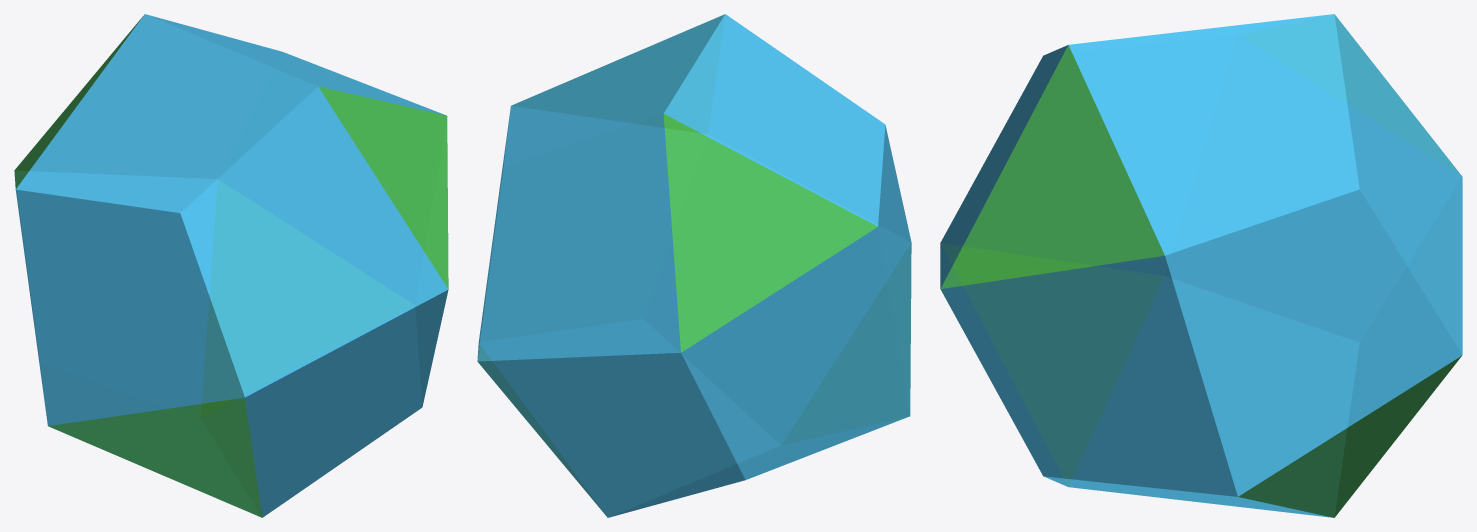
File: PropellorTetrahedron.obj
The picture shows the model from 3 angles, left to right: view 1: azimuth 30°, elevation 25°; view 2: azimuth 150°, elevation 25°; view 3: azimuth 270°, elevation 25°; orthographic projection. The views are drawn at different scales.
Bounding box in the file's own units: 2 × 2 × 2.
